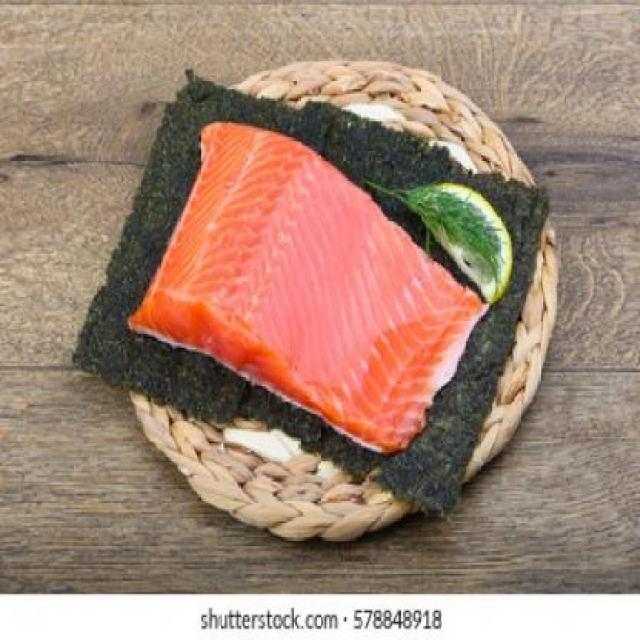salmon: (143, 114, 462, 473)
